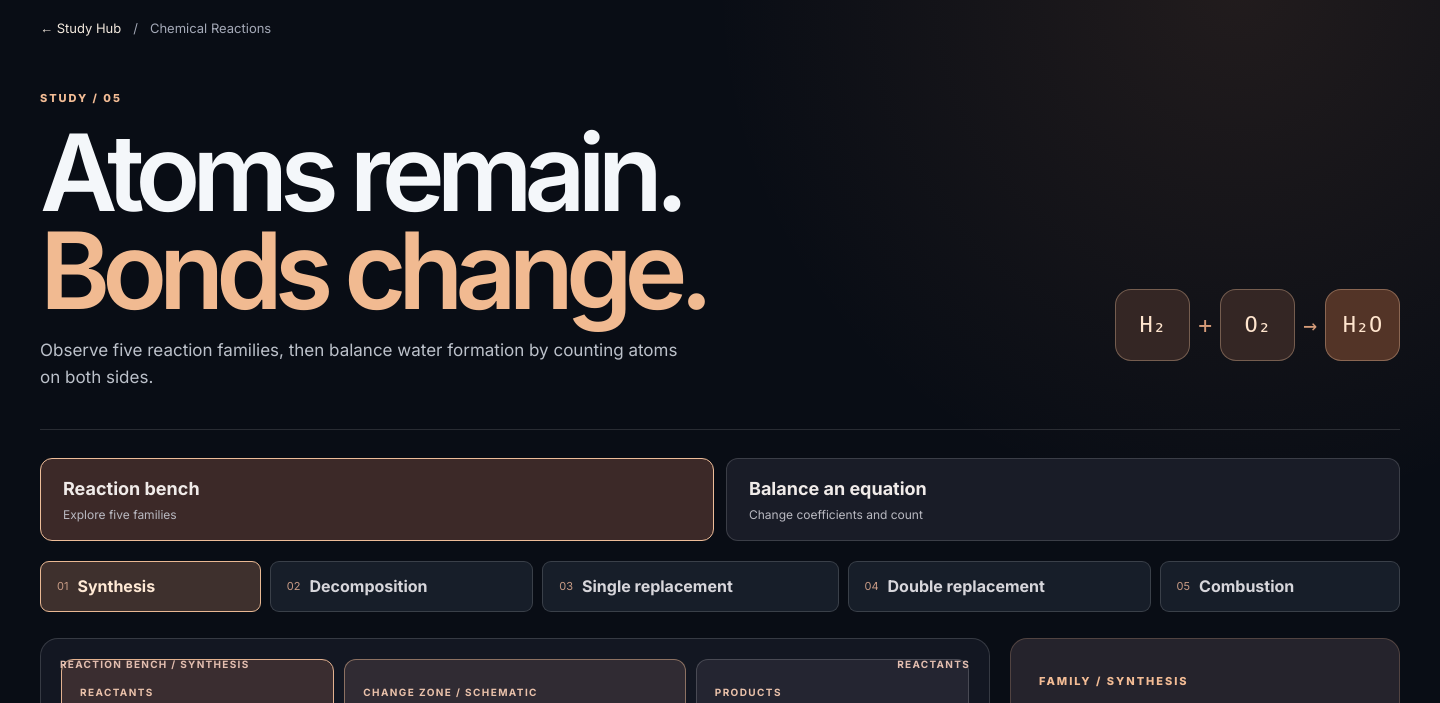
Scenario: coefficient-only equation balancing › recomputes molecule counts and confirms the smallest whole-number answer
This screenshot has width=1440, height=703.
Click the button "Balance an equation Change coefficients and count". click: (838, 488)
box: x1=726 y1=458 x2=1400 y2=541
(page scrolled)
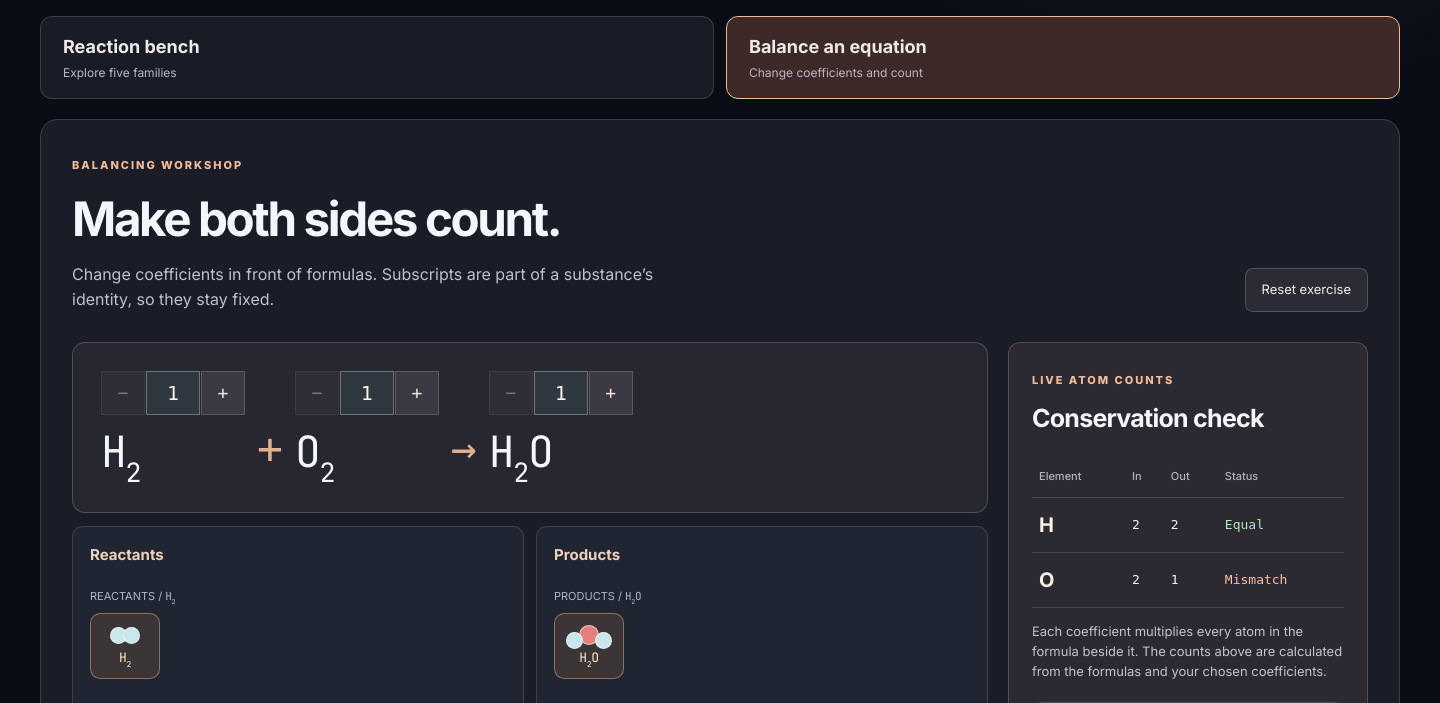
Check: the row "O 2 1 Mismatch" is shown, box x1=1032 y1=552 x2=1344 y2=607
Click the button named "Increase coefficient for H2O". click: (611, 393)
box: x1=589 y1=371 x2=633 y2=415
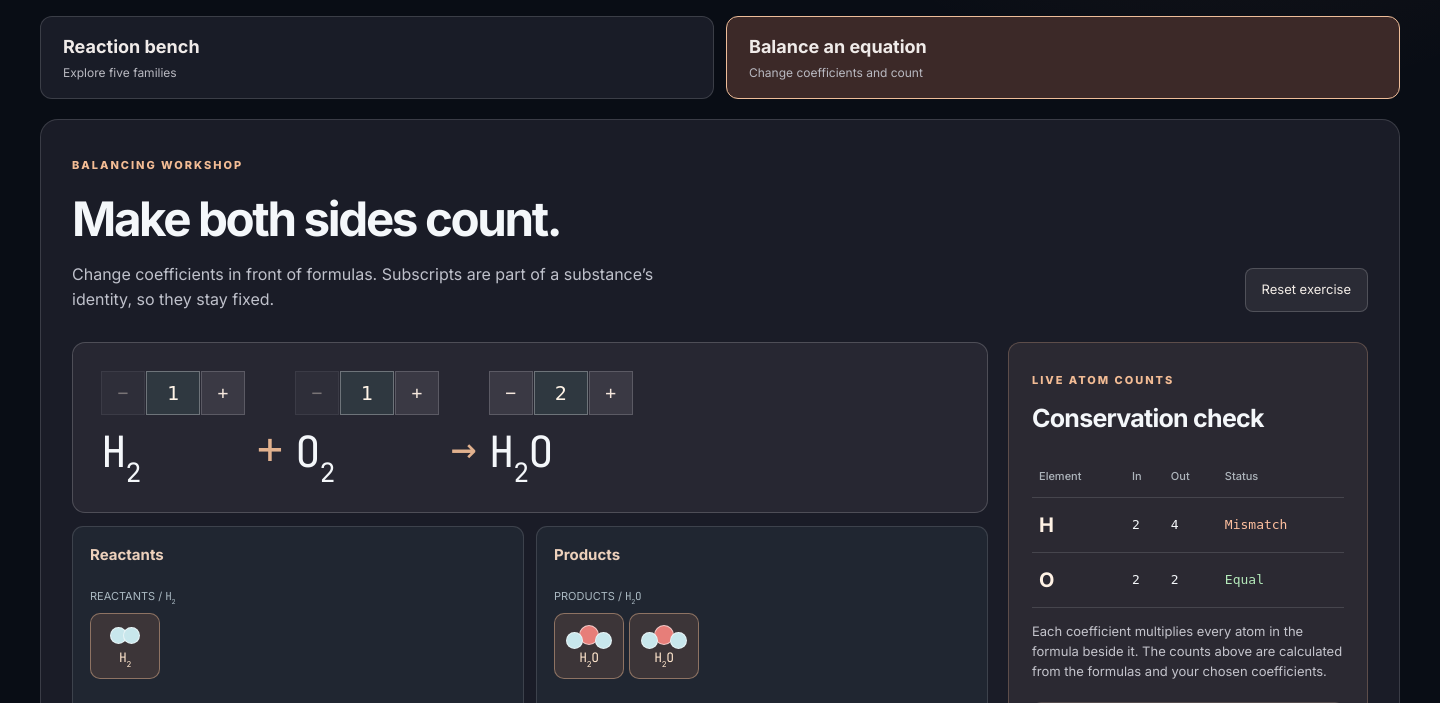
Check: the row "H 2 4 Mismatch" is shown, box x1=1032 y1=498 x2=1344 y2=552
Click the button named "Increase coefficient for H2". click: (223, 393)
box: x1=201 y1=371 x2=245 y2=415
(page scrolled)
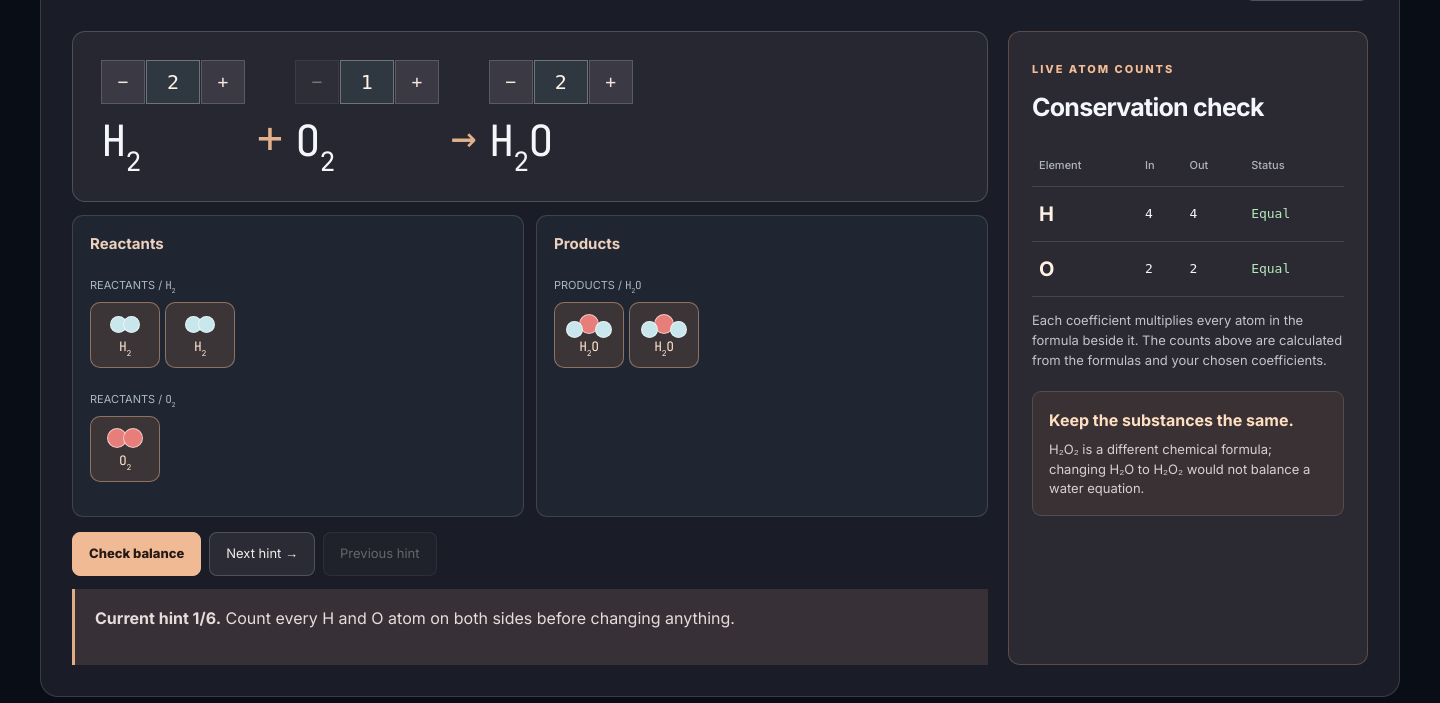
Check: the row "O 2 2 Equal" is shown, box x1=1032 y1=241 x2=1344 y2=296
Check: the row "H 4 4 Equal" is shown, box x1=1032 y1=187 x2=1344 y2=241
Click the button "Check balance". click: (137, 554)
box: x1=72 y1=532 x2=201 y2=576
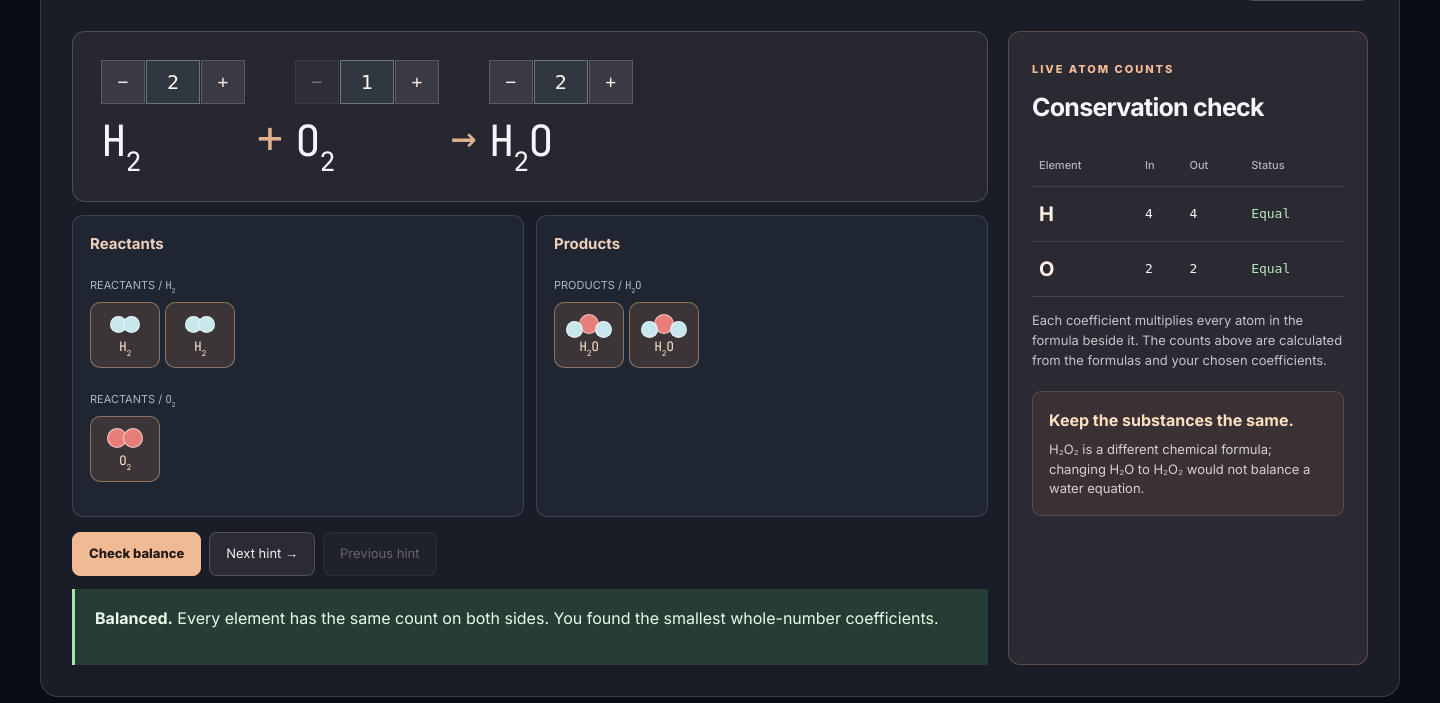
Check: the text "smallest whole-number coefficients" is shown, box x1=554 y1=608 x2=938 y2=628
